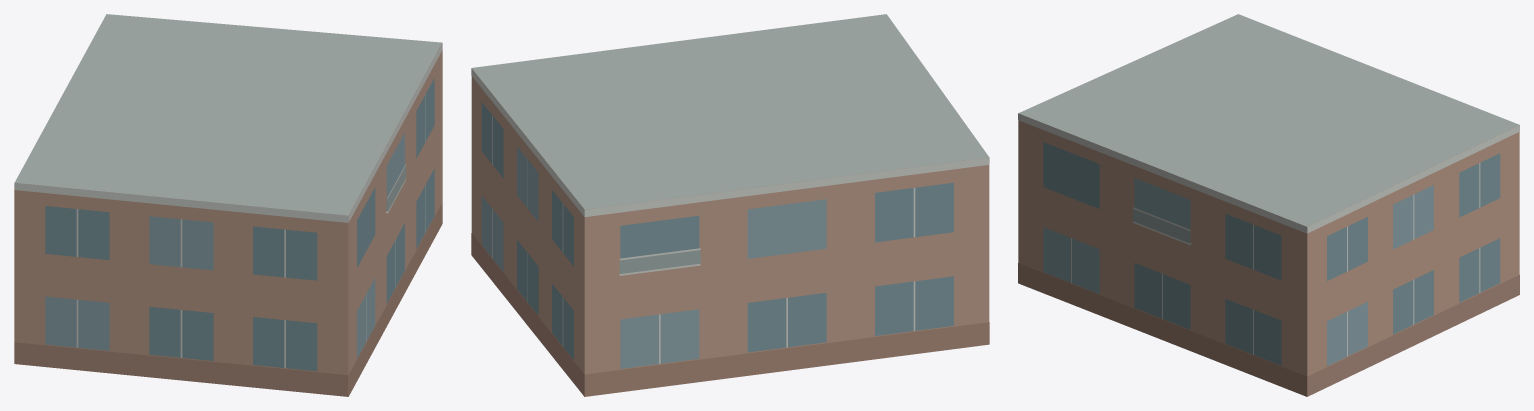
The model's file is survey-upis-32891003.glb.
3 views of the same model, side by side, from view 1: azimuth 30°, elevation 25°; view 2: azimuth 150°, elevation 25°; view 3: azimuth 270°, elevation 25° (orthographic). The views are drawn at different scales.
Visible parts, largest first — view 1: survey-upis-32891003.tmp; view 2: survey-upis-32891003.tmp; view 3: survey-upis-32891003.tmp.
Part boxes in pixels (x1=…): survey-upis-32891003.tmp: x1=14, y1=14, x2=442, y2=396; survey-upis-32891003.tmp: x1=471, y1=14, x2=989, y2=396; survey-upis-32891003.tmp: x1=1018, y1=14, x2=1519, y2=396.
Size of the model in its own units: 16.38 by 6.1 by 16.31.
